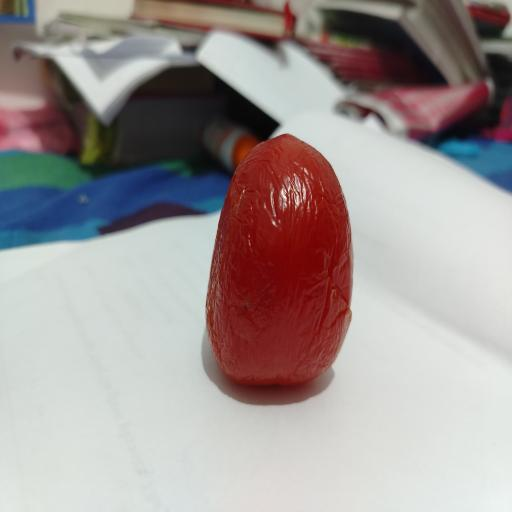spoiled: (206, 134, 353, 384)
